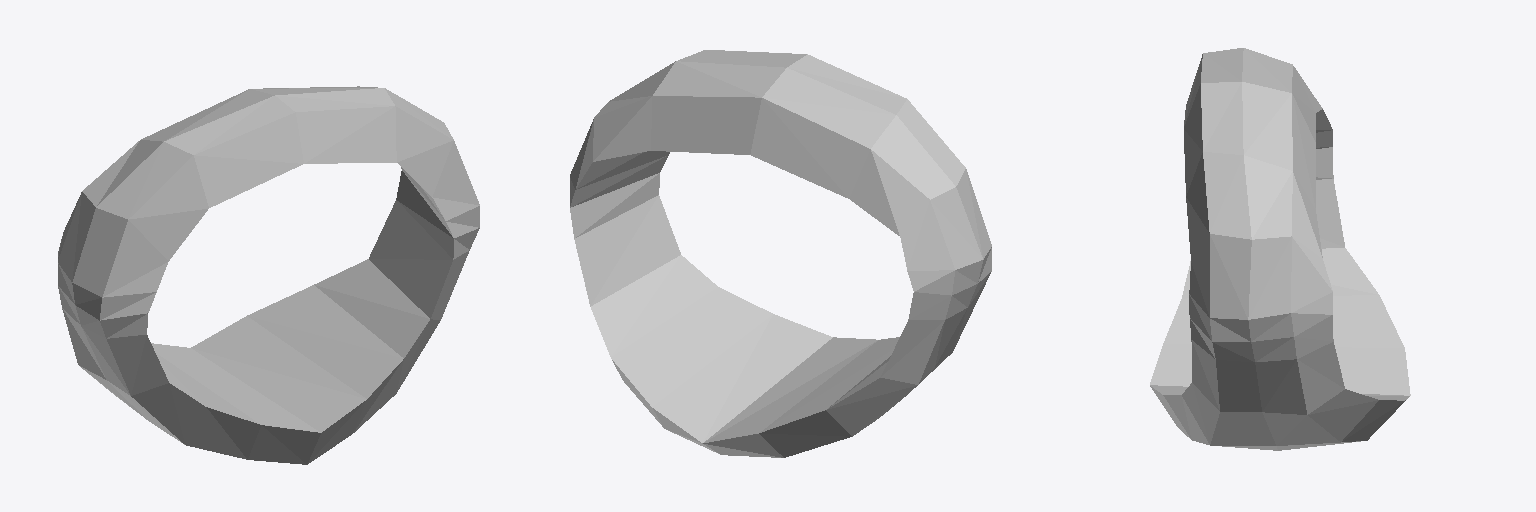
Rendered from belt1.obj.
3 views of the same model, side by side, from view 1: azimuth 30°, elevation 25°; view 2: azimuth 150°, elevation 25°; view 3: azimuth 270°, elevation 25° (orthographic).
Visible parts, largest first — view 1: belt1_0; view 2: belt1_0; view 3: belt1_0.
Part boxes in pixels (bbox=[...]): belt1_0: bbox=[58, 86, 479, 464]; belt1_0: bbox=[570, 50, 991, 457]; belt1_0: bbox=[1150, 48, 1410, 450].
Size of the model in its own units: 0.004 by 0.0033 by 0.0023.